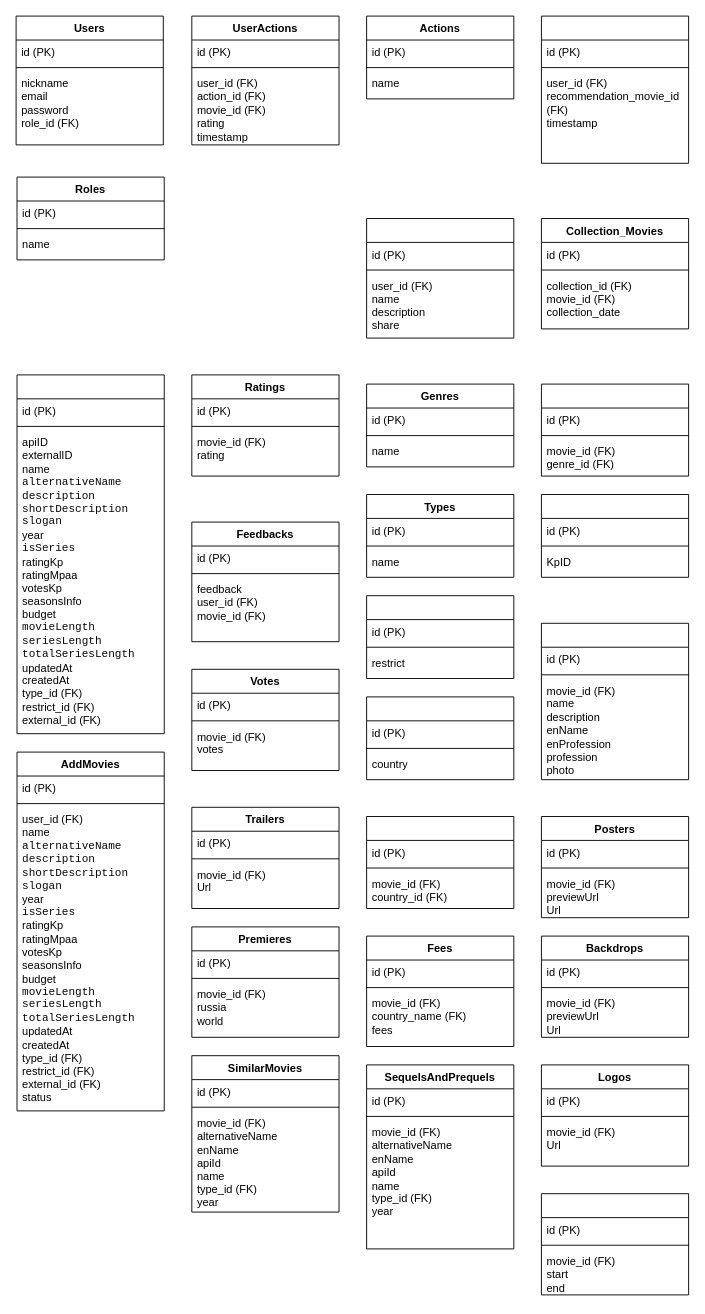
Image size: 705x1314. Some labels were removed from this diagram. The box of each missing label's shape, as (x1, y1, x2, y2) in pixels:
Collections: (366, 218, 514, 338)
Countries: (366, 696, 514, 780)
ExternalIDs: (540, 494, 689, 577)
Film_Countries: (366, 816, 514, 908)
Film_Genres: (540, 383, 689, 476)
Movies: (16, 374, 164, 734)
Persons: (540, 622, 689, 780)
Recommendations: (540, 15, 689, 163)
ReleaseYears: (540, 1193, 689, 1295)
Resctricts: (366, 595, 514, 678)
